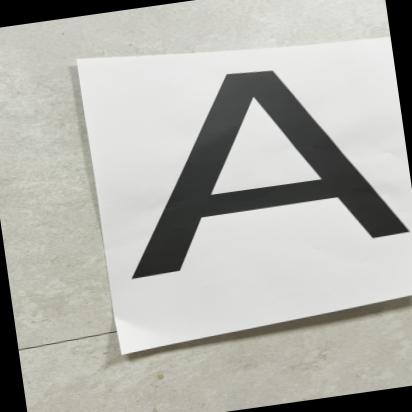seat: (98, 44, 412, 303)
